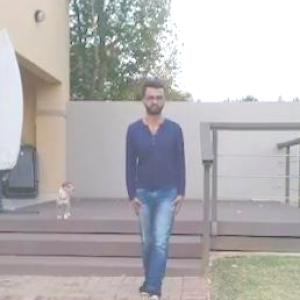follow: (112, 64, 185, 299)
